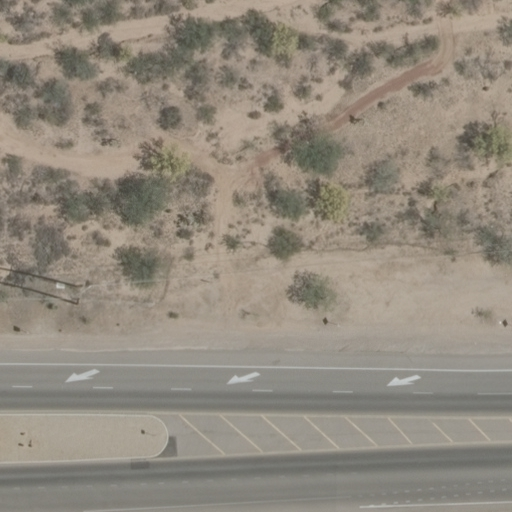DT: (64, 272, 96, 314)
